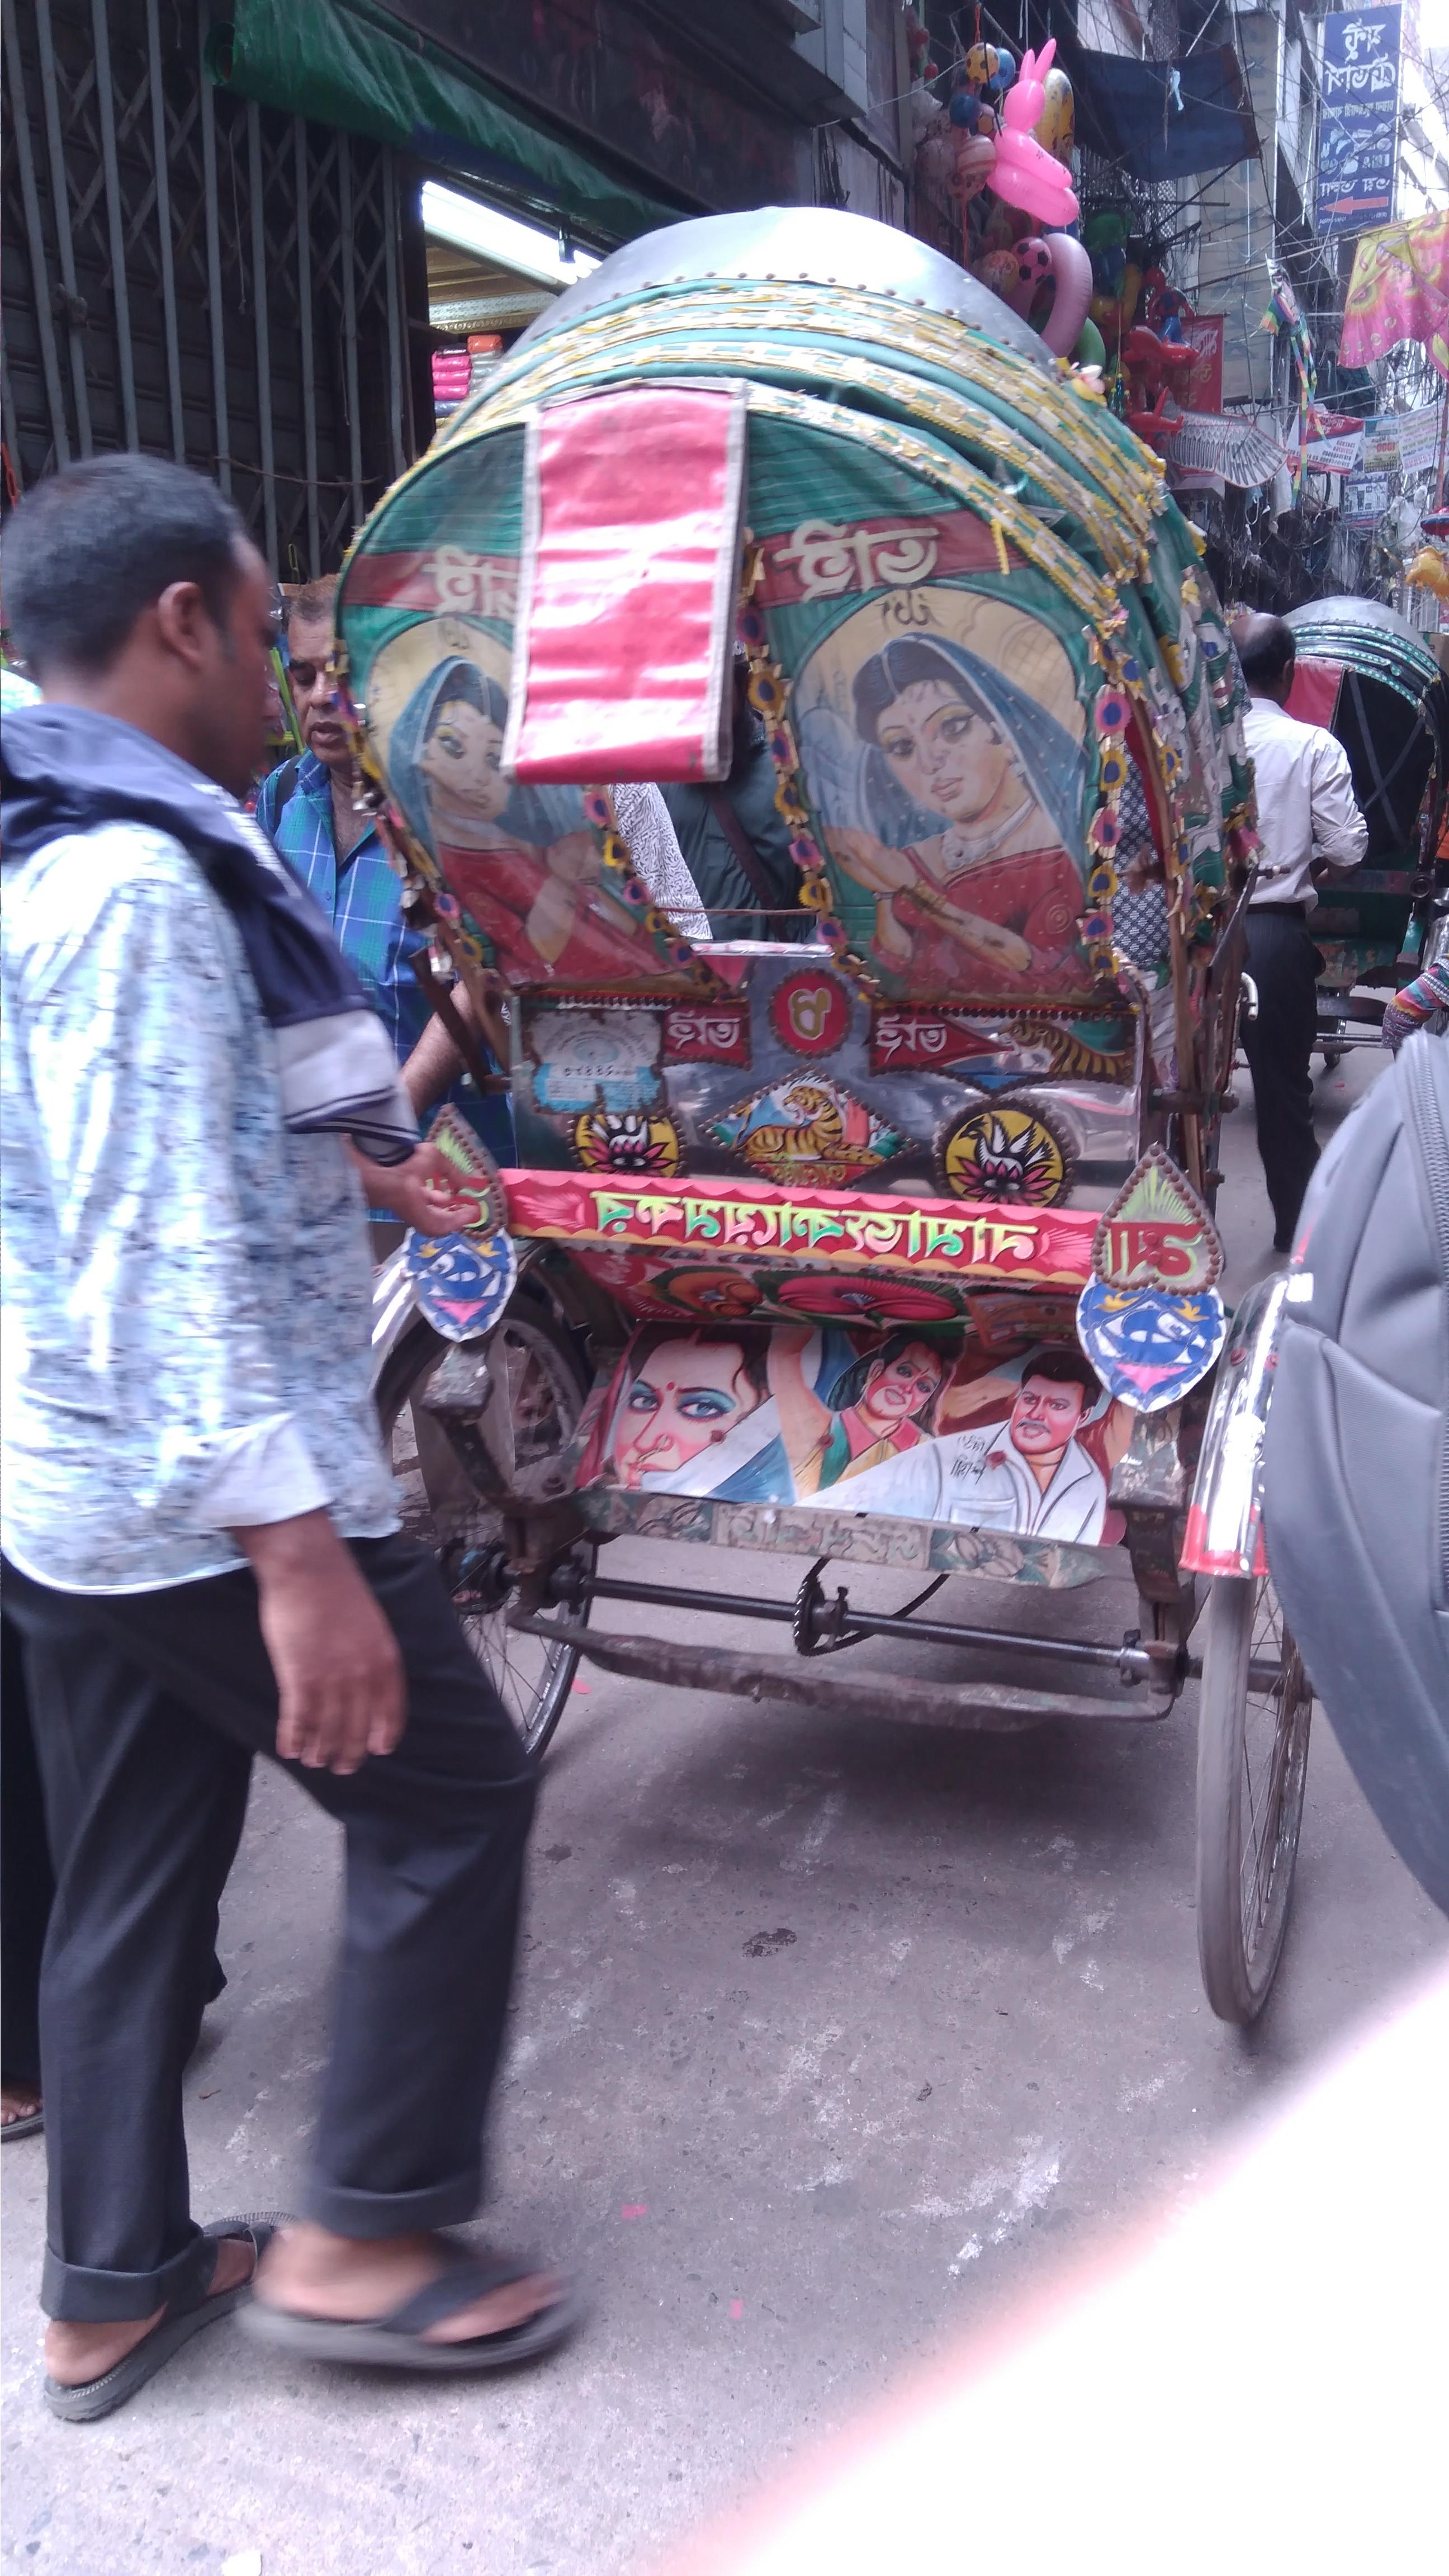Rickshaw: (324, 267, 1433, 2114)
